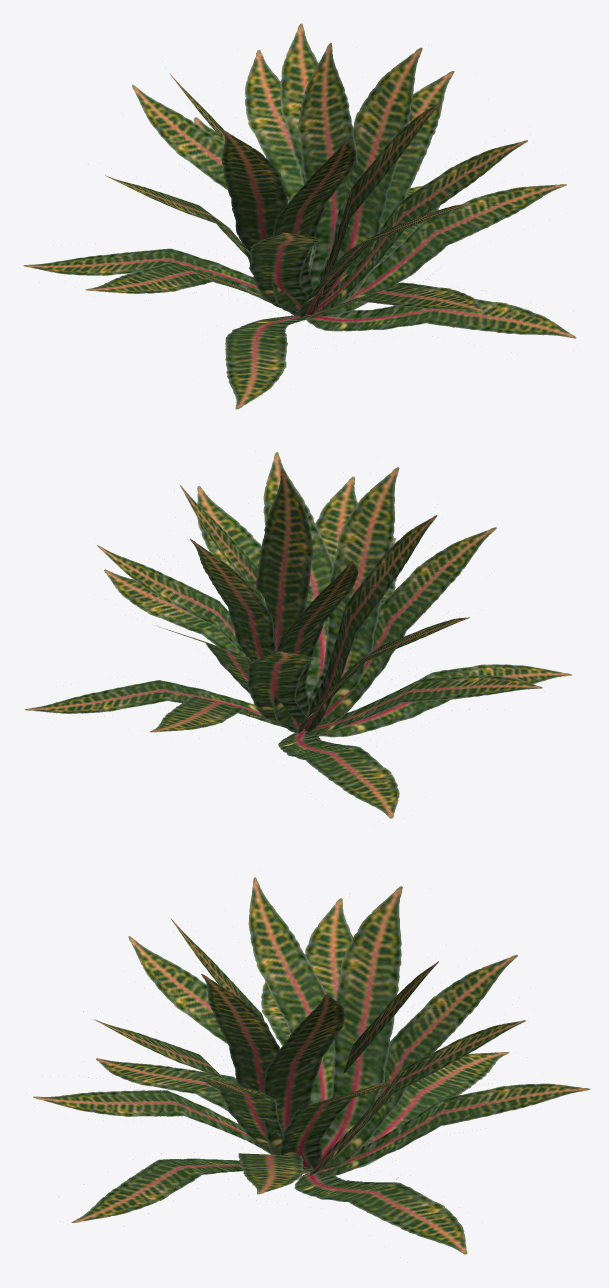
Rendered from plant9.FBX.
3 renders of one model, top to bottom at view 1: azimuth 30°, elevation 25°; view 2: azimuth 150°, elevation 25°; view 3: azimuth 270°, elevation 25°, orthographic. The views are drawn at different scales.
Visible parts, largest first — view 1: plant9; view 2: plant9; view 3: plant9.
Part boxes in pixels (<box>): plant9: <box>23,23,576,409</box>; plant9: <box>24,452,571,818</box>; plant9: <box>33,877,590,1254</box>.
Bounding box in the file's own units: 5.74 × 3.06 × 5.68.
